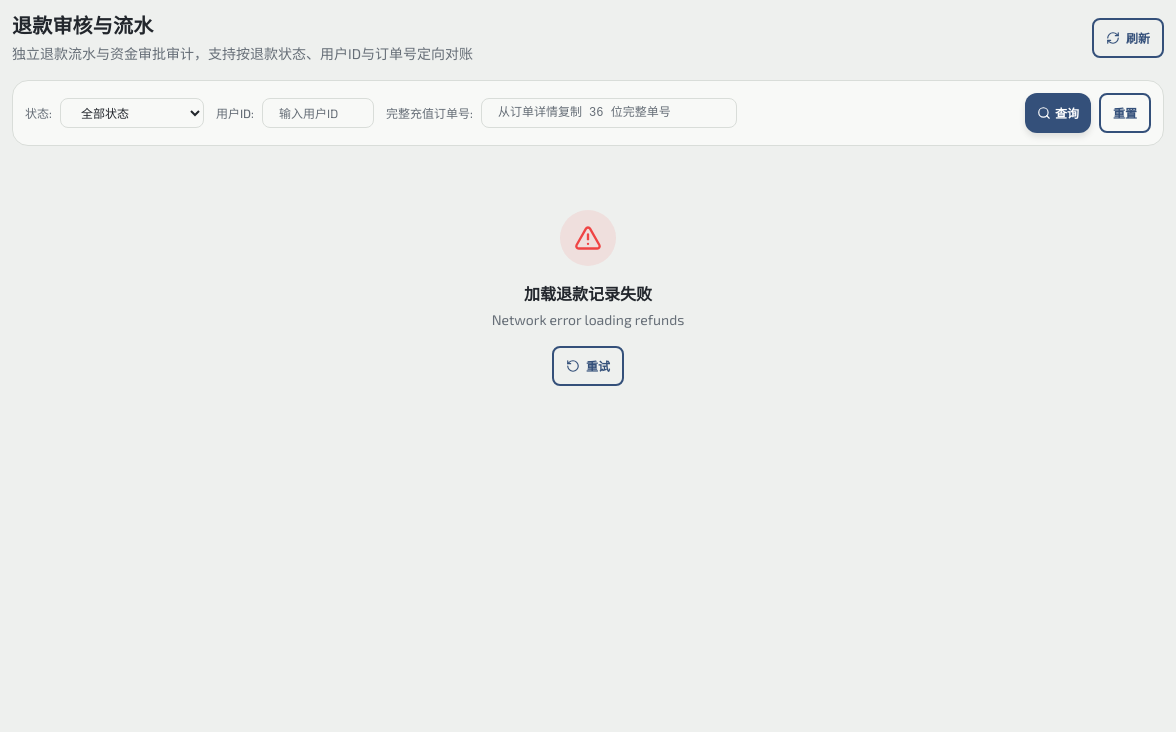
AdminRefundAuditPanel › renders ErrorState with retry button when loading fails and preserves context on retry
Expected: the message "加载退款记录失败 Network error loading refunds 重试" is shown, x1=492 y1=210 x2=684 y2=386
Expected: the text "Network error loading refunds" is shown, x1=492 y1=310 x2=684 y2=330
Click the button with test id "admin-error-retry". click: (588, 366)
box: x1=552 y1=346 x2=624 y2=386
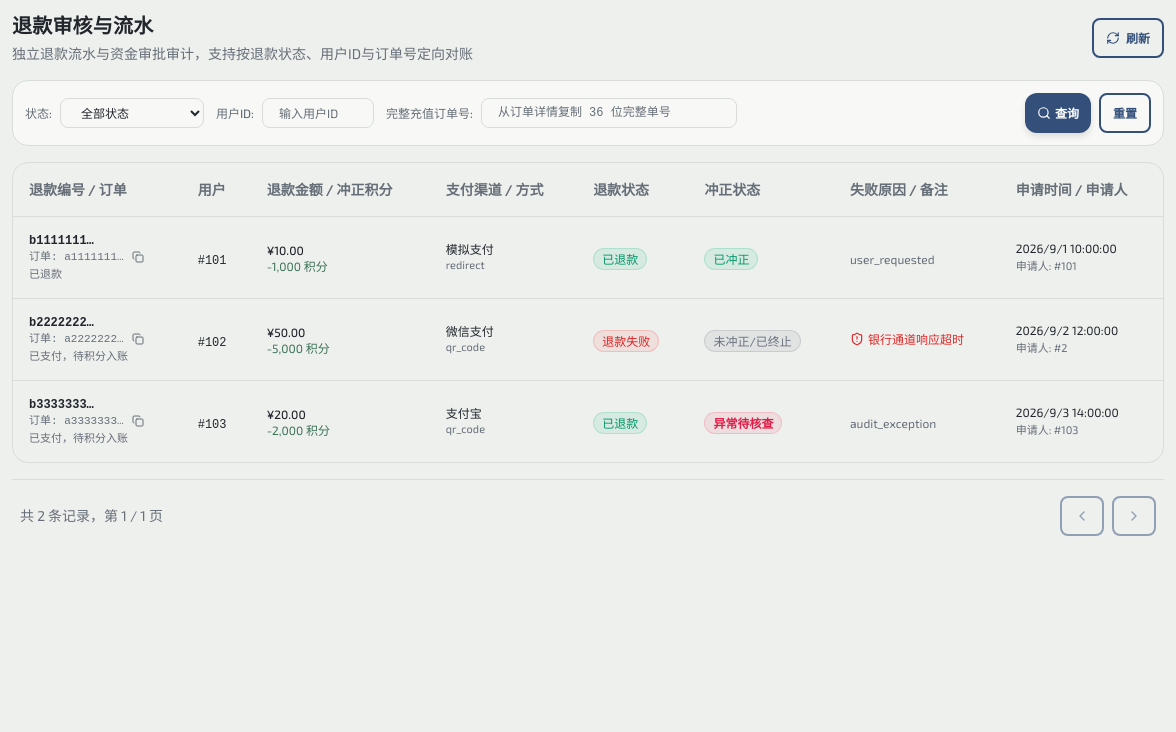
Result: the table with test id "admin-refund-table" is shown at x1=13 y1=163 x2=1163 y2=462
Result: the message with test id "admin-refund-error-state" is gone
